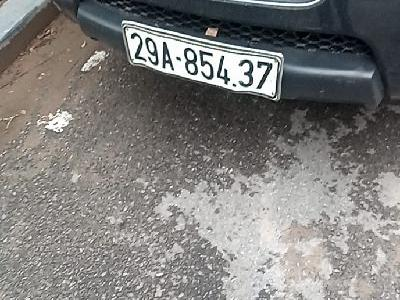lisence: (120, 19, 285, 104)
